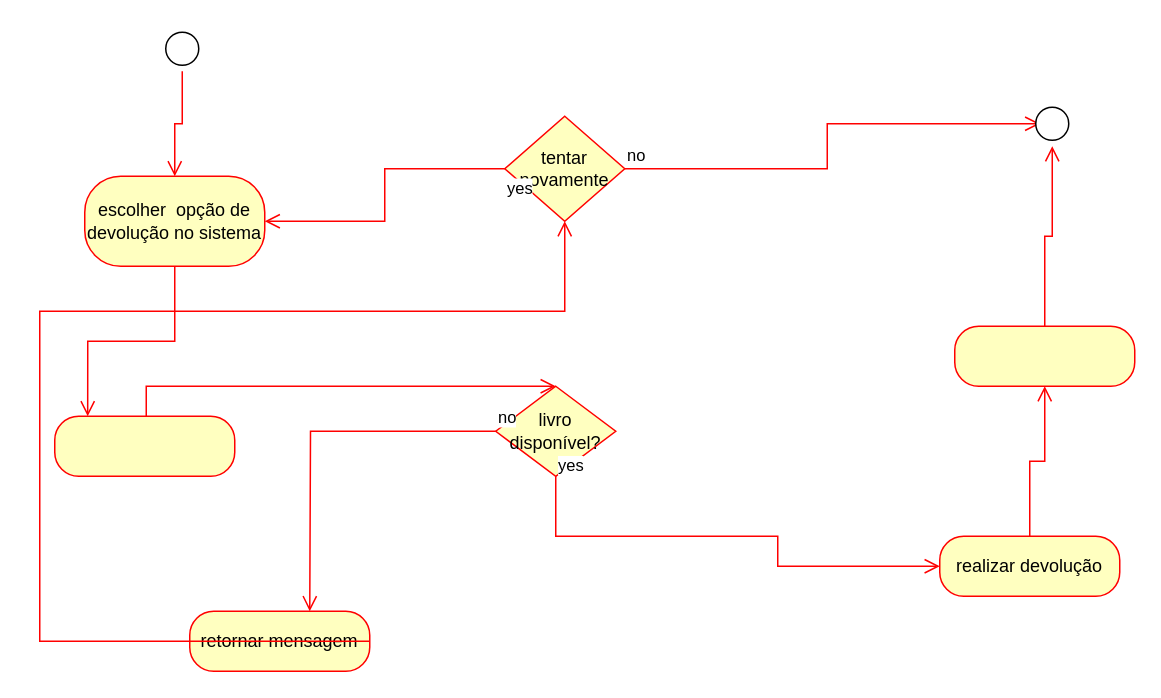
This 1161x698 diagram has some shape labels left out. Each missing label, with the centre of its shape:
"gravar histórico de devolução" belongs at point (1044, 355).
"inserir ISBN do livro" belongs at point (144, 445).
